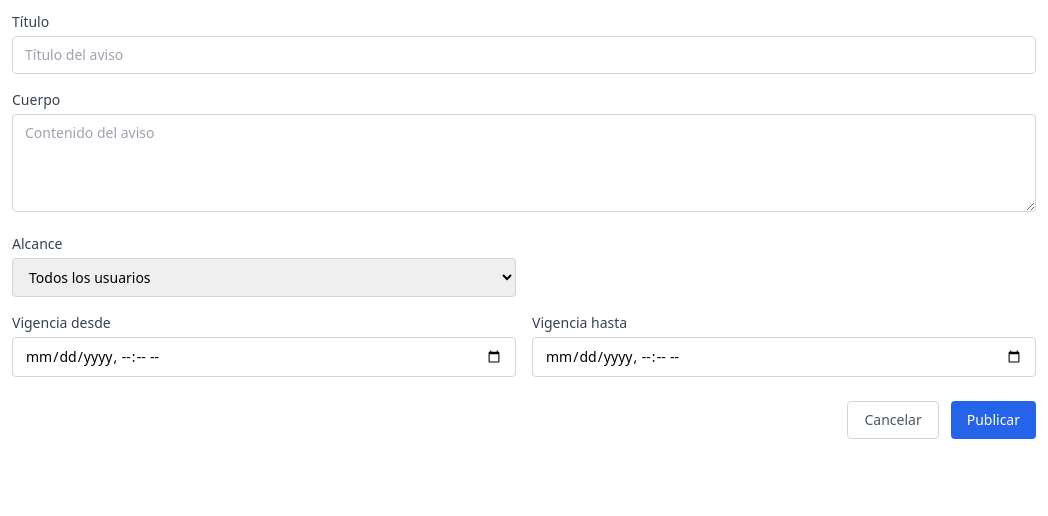
Test case: AvisoForm › shows validation error when titulo is empty on submit
Click the button "Publicar". click: (993, 420)
box: [951, 401, 1036, 439]
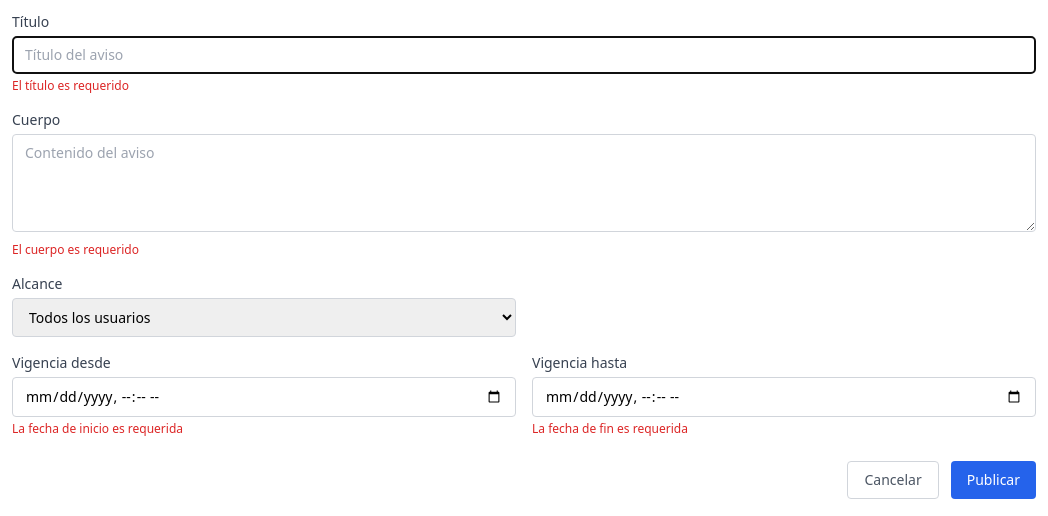
Check: the text "El título es requerido" is shown, box [12, 77, 129, 94]
